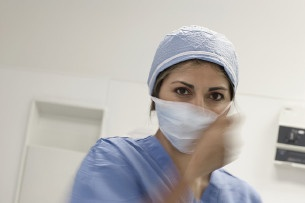Mask: (160, 79, 232, 151)
